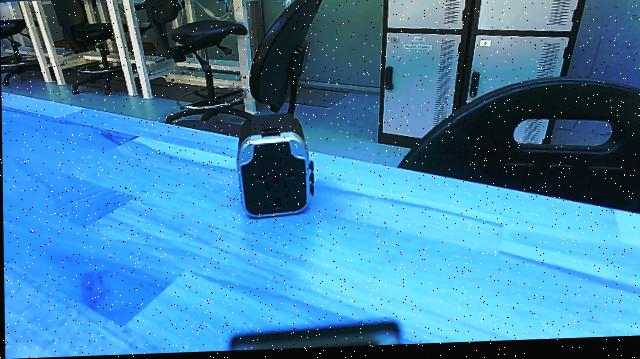adapter: (232, 112, 316, 228)
